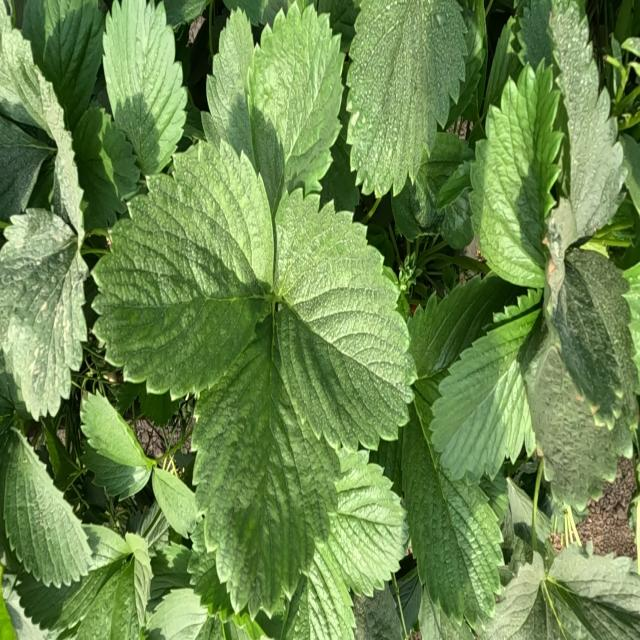Leaves: (95, 141, 274, 396), (193, 319, 340, 609), (275, 190, 410, 449), (519, 0, 627, 237), (347, 0, 468, 197), (470, 60, 563, 289), (402, 414, 503, 621), (0, 4, 84, 241), (408, 274, 524, 444), (430, 308, 542, 479), (0, 209, 87, 419), (248, 0, 343, 191), (524, 331, 623, 510), (550, 249, 638, 425), (103, 0, 187, 174), (3, 430, 91, 587), (21, 524, 131, 628), (328, 452, 407, 596), (21, 0, 104, 132), (202, 9, 256, 166), (73, 105, 140, 230), (550, 546, 640, 639), (40, 80, 84, 245), (287, 548, 356, 639), (81, 393, 156, 470), (0, 115, 53, 219), (482, 553, 543, 639), (505, 478, 552, 559), (85, 447, 150, 499), (392, 171, 441, 239), (152, 468, 199, 536), (77, 573, 119, 639), (353, 584, 401, 639), (126, 533, 153, 628), (110, 560, 141, 639)
